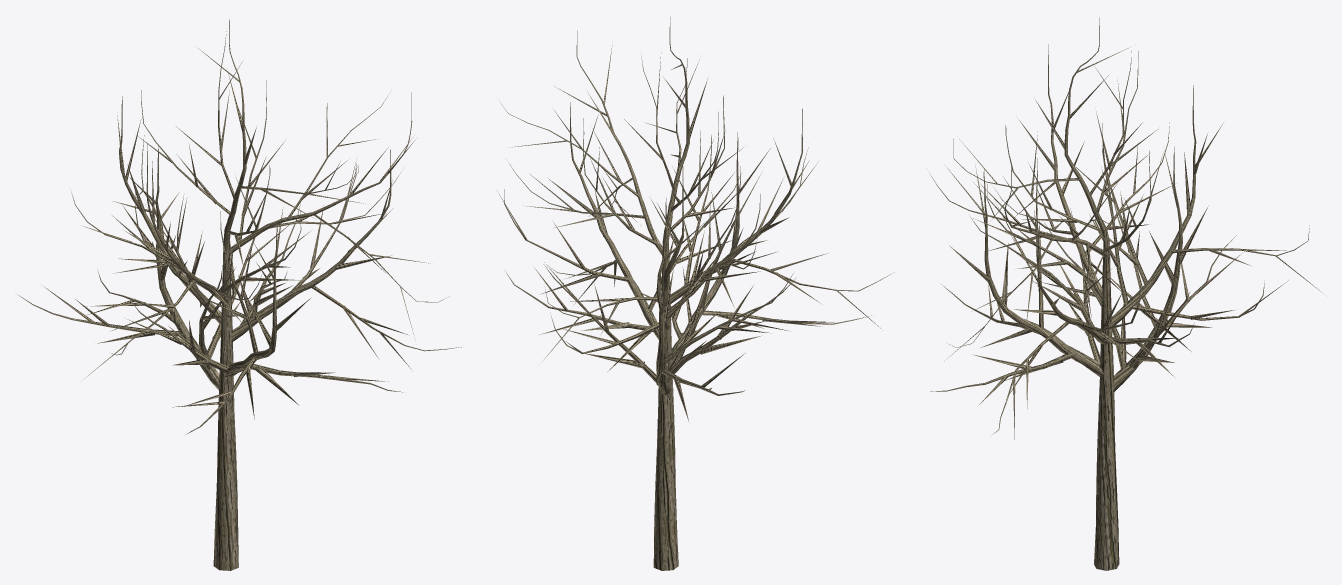
Rendered from tree.glb.
3 renders of one model, left to right at view 1: azimuth 30°, elevation 25°; view 2: azimuth 150°, elevation 25°; view 3: azimuth 270°, elevation 25°, orthographic.
Parts seen in each view (by area): view 1: Tree; view 2: Tree; view 3: Tree.
Boxes of the visible parts, box(x1,y1,x2,y2) form: Tree: box(18, 19, 461, 570); Tree: box(497, 17, 894, 570); Tree: box(929, 17, 1324, 570).
Size of the model in its own units: 45.45 by 65.77 by 43.46.
1 material, 1 textured.
